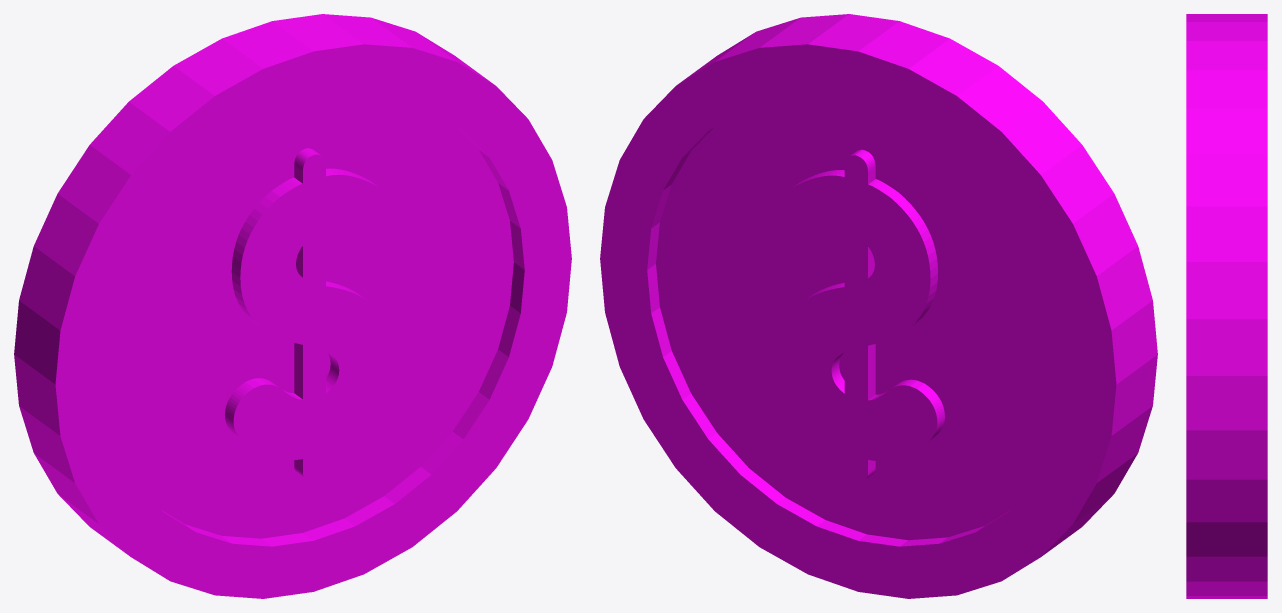
The model's file is coin.fbx.
3 views of the same model, side by side, from view 1: azimuth 30°, elevation 25°; view 2: azimuth 150°, elevation 25°; view 3: azimuth 270°, elevation 25° (orthographic).
Visible parts, largest first — view 1: Coin; view 2: Coin; view 3: Coin.
Part boxes in pixels (left/top/right/bottom): Coin: left=14, top=14, right=571, bottom=598; Coin: left=600, top=14, right=1157, bottom=598; Coin: left=1186, top=14, right=1267, bottom=598.
Size of the model in its own units: 200 by 200 by 27.8.
